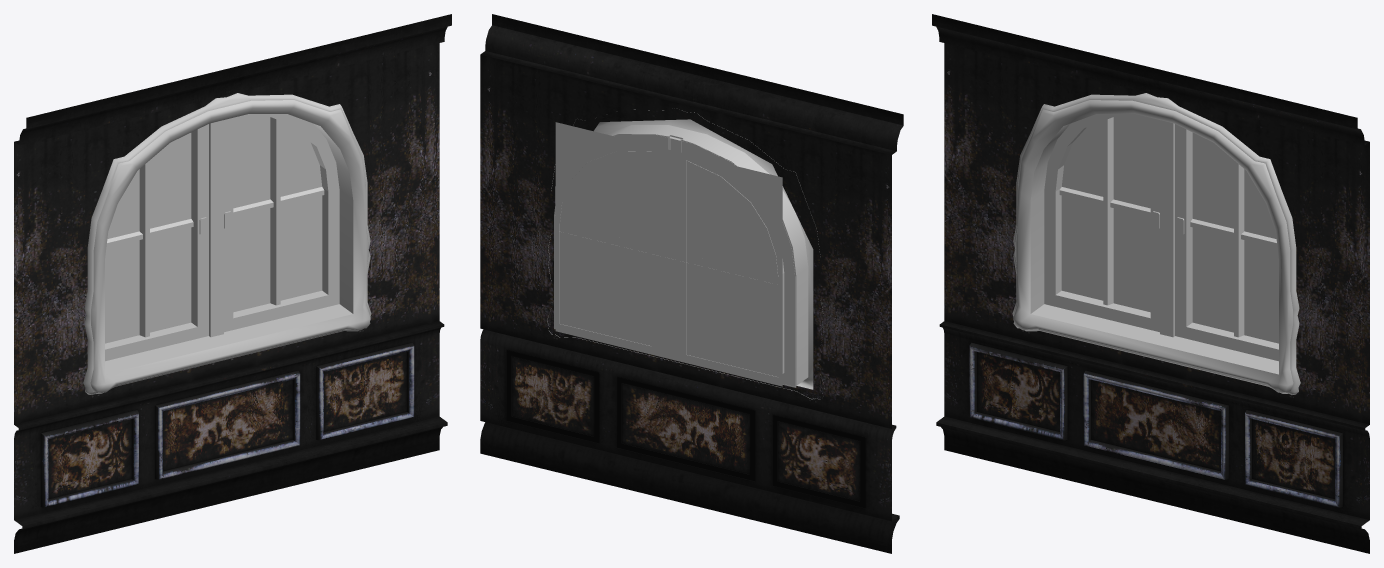
The model's file is window03_yellow_rotten.dae.
3 views of the same model, side by side, from view 1: azimuth 30°, elevation 25°; view 2: azimuth 150°, elevation 25°; view 3: azimuth 330°, elevation 25° (orthographic). The views are drawn at different scales.
Visible parts, largest first — view 1: window03, window03_frame, window03_glass; view 2: window03, window03_glass, window03_frame; view 3: window03, window03_frame, window03_glass.
Boxes of the visible parts, x1,y1,x2,y2 form: window03: (14, 14, 451, 553); window03_frame: (83, 93, 371, 394); window03_glass: (105, 116, 322, 343); window03: (480, 14, 903, 553); window03_glass: (555, 122, 782, 386); window03_frame: (547, 109, 824, 399); window03: (932, 14, 1369, 553); window03_frame: (1012, 93, 1300, 394); window03_glass: (1061, 116, 1278, 343).
Bounding box in the file's own units: 4 × 4 × 0.488.
